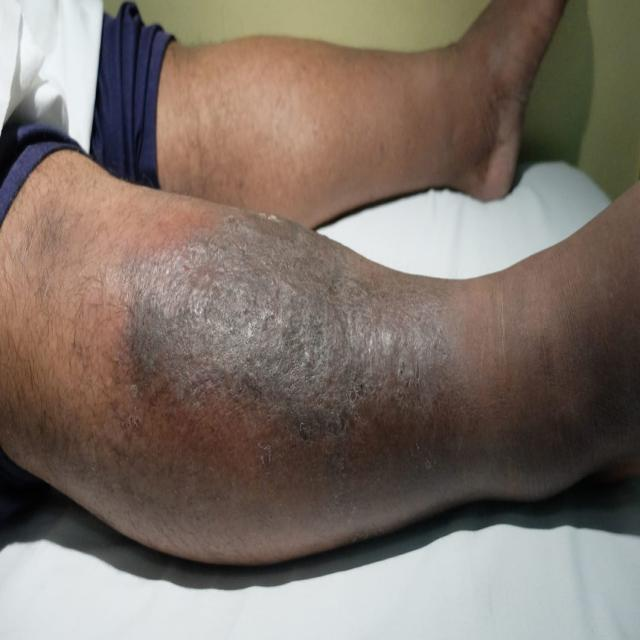Eczema: (79, 218, 465, 470)
